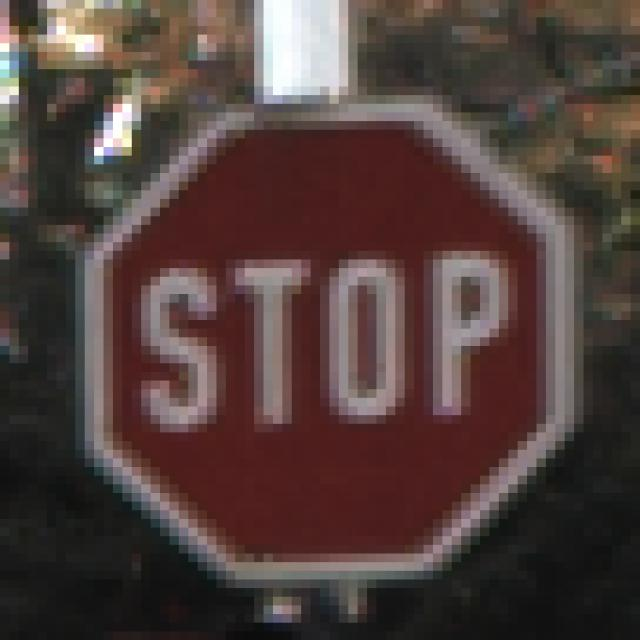STOP: (58, 62, 585, 581)
